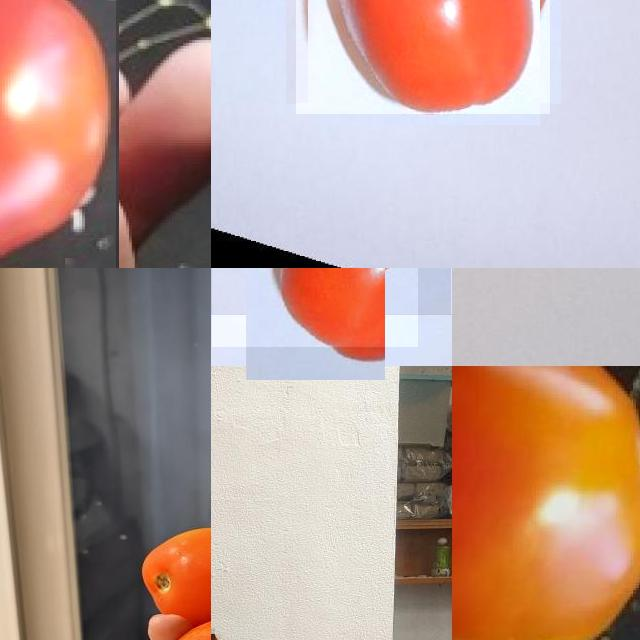Fresh Tomato: (452, 366, 640, 640), (0, 0, 116, 268), (296, 0, 550, 114), (212, 268, 418, 347), (131, 521, 211, 618)
